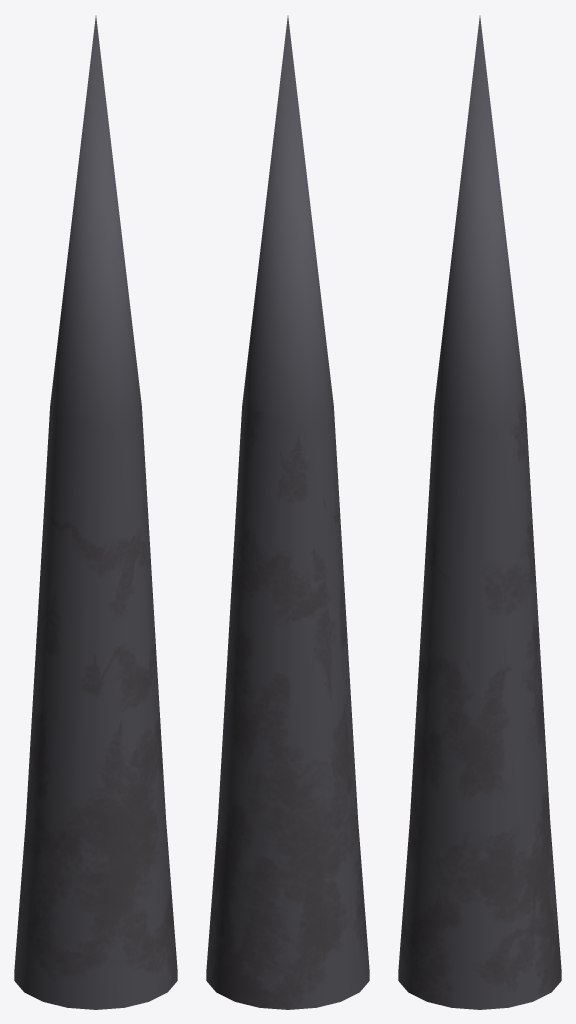
The model's file is stalag2.fbx.
3 renders of one model, left to right at view 1: azimuth 30°, elevation 25°; view 2: azimuth 150°, elevation 25°; view 3: azimuth 270°, elevation 25°, orthographic.
Parts seen in each view (by area): view 1: Stalag2; view 2: Stalag2; view 3: Stalag2.
Part boxes in pixels (left/top/right/bottom): Stalag2: left=14, top=15, right=177, bottom=1009; Stalag2: left=206, top=15, right=369, bottom=1009; Stalag2: left=398, top=15, right=561, bottom=1009.
Bounding box in the file's own units: 35.1 × 225 × 34.56.
Materials: 1 (1 with a texture image).
